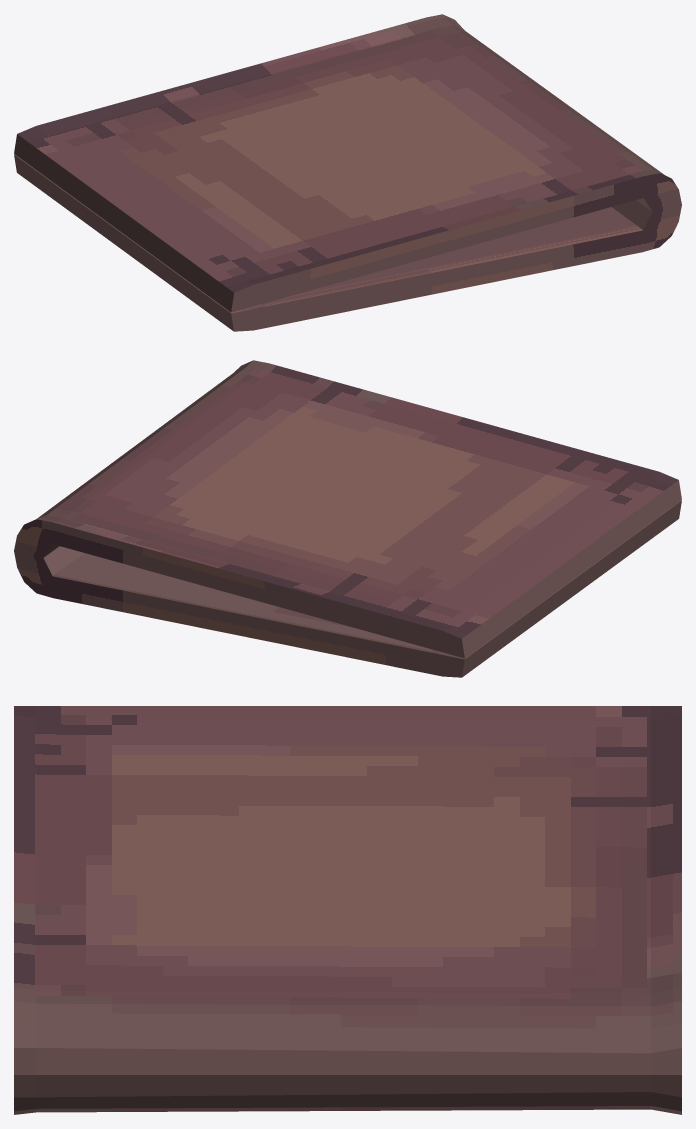
The model's file is Wallet.fbx.
3 views of the same model, one above another, from view 1: azimuth 30°, elevation 25°; view 2: azimuth 150°, elevation 25°; view 3: azimuth 270°, elevation 25° (orthographic). The views are drawn at different scales.
Visible parts, largest first — view 1: Cube.001; view 2: Cube.001; view 3: Cube.001.
Part boxes in pixels (<box>): Cube.001: <box>14,14,681,331</box>; Cube.001: <box>14,360,681,677</box>; Cube.001: <box>14,706,681,1114</box>.
Size of the model in its own units: 148 by 23.81 by 124.
1 material, 1 textured.
